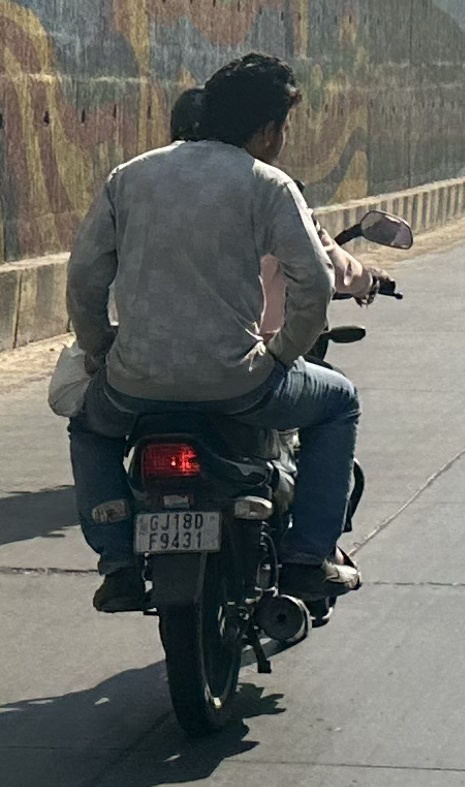BikeWithRider: (37, 41, 421, 745)
NoHelmet: (189, 44, 309, 171), (159, 78, 227, 150)
